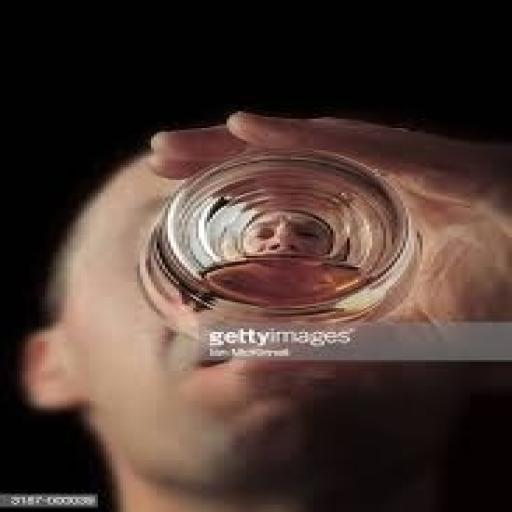drinking: (134, 112, 509, 368)
